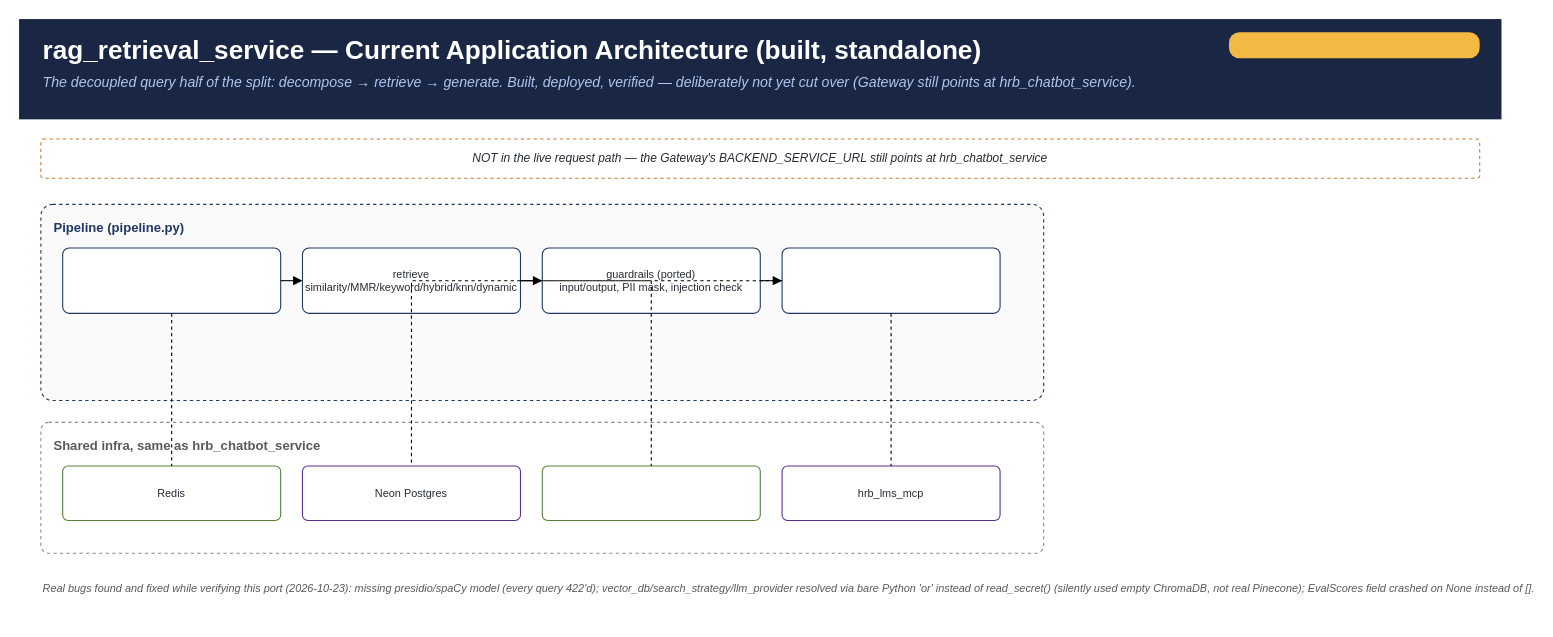
Some shapes in this 1553 by 637 pixel diagram are drawn without their labels. The shapes that lost their labels are listed below. From the top down, each one's centre as x and y in pixels, then its label:
point 1353,45: VIEW · current state, standalone
point 171,280: decompose query decomposition, mini LLM
point 890,280: generate large/grounded LLM call
point 650,492: Pinecone
